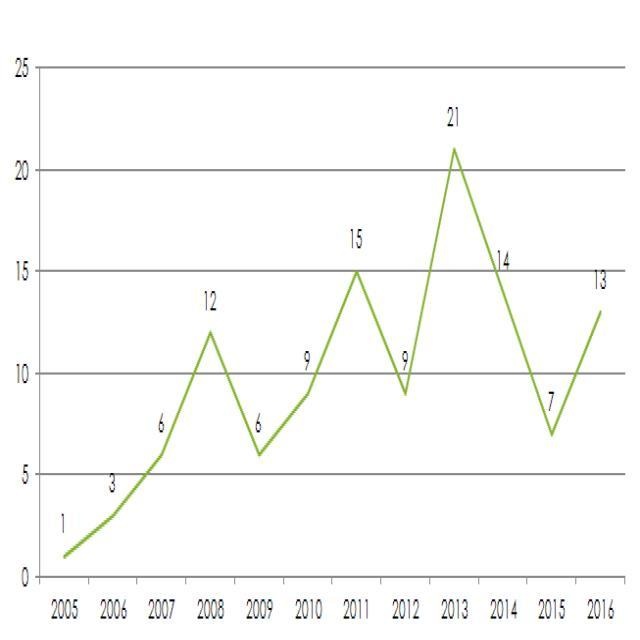axis: (33, 573, 640, 587), (31, 48, 45, 592)
line: (60, 141, 605, 562)
